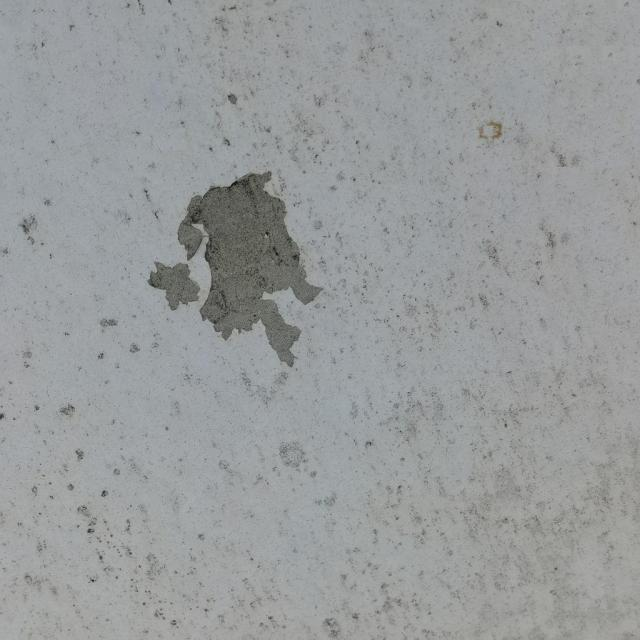surface_peeling: (144, 171, 322, 370)
